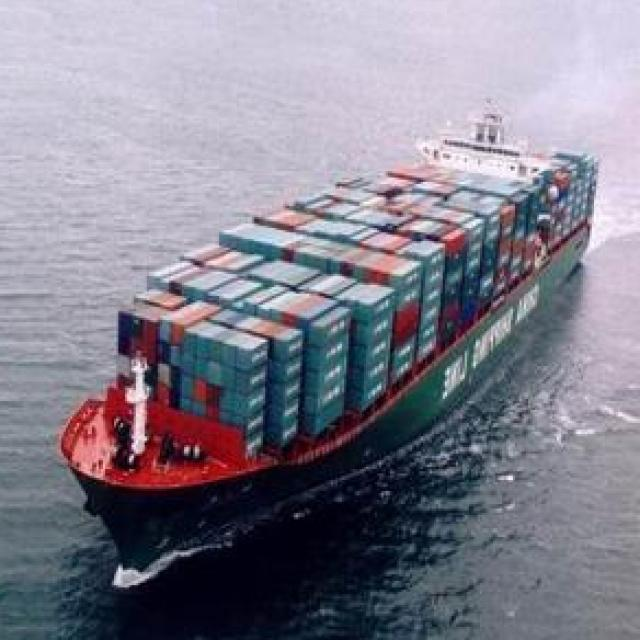cargoship: (56, 93, 614, 564)
